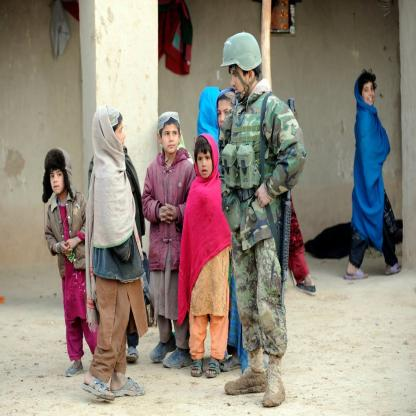Helmet: (220, 30, 263, 102)
